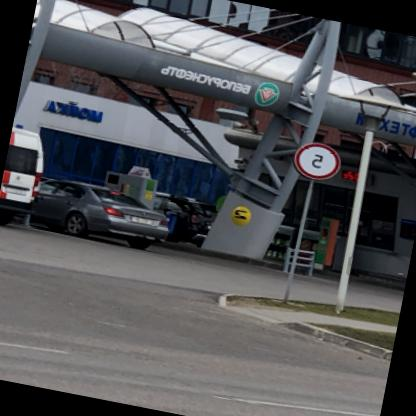speedlimit: (292, 137, 346, 183)
